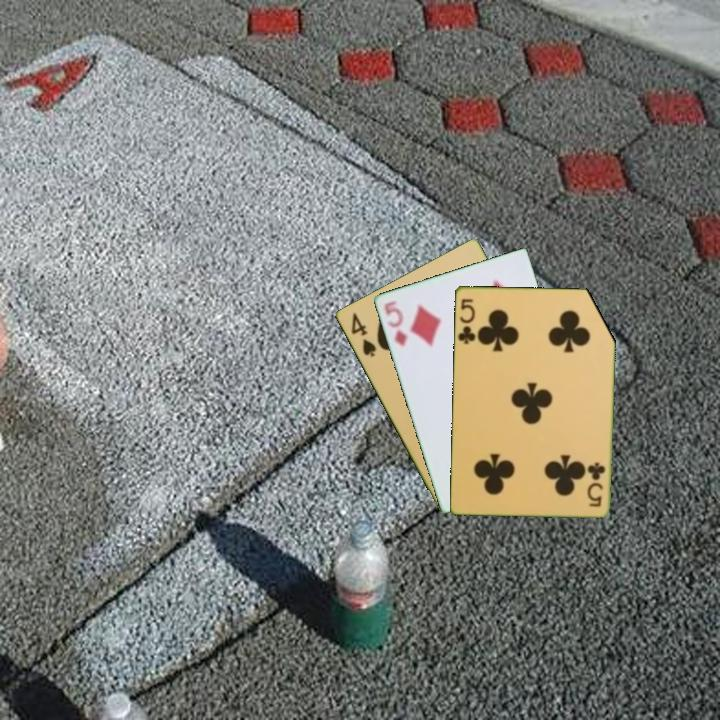4s: (347, 309, 379, 360)
5c: (455, 295, 478, 347), (585, 458, 608, 509)
5d: (380, 297, 410, 350)
